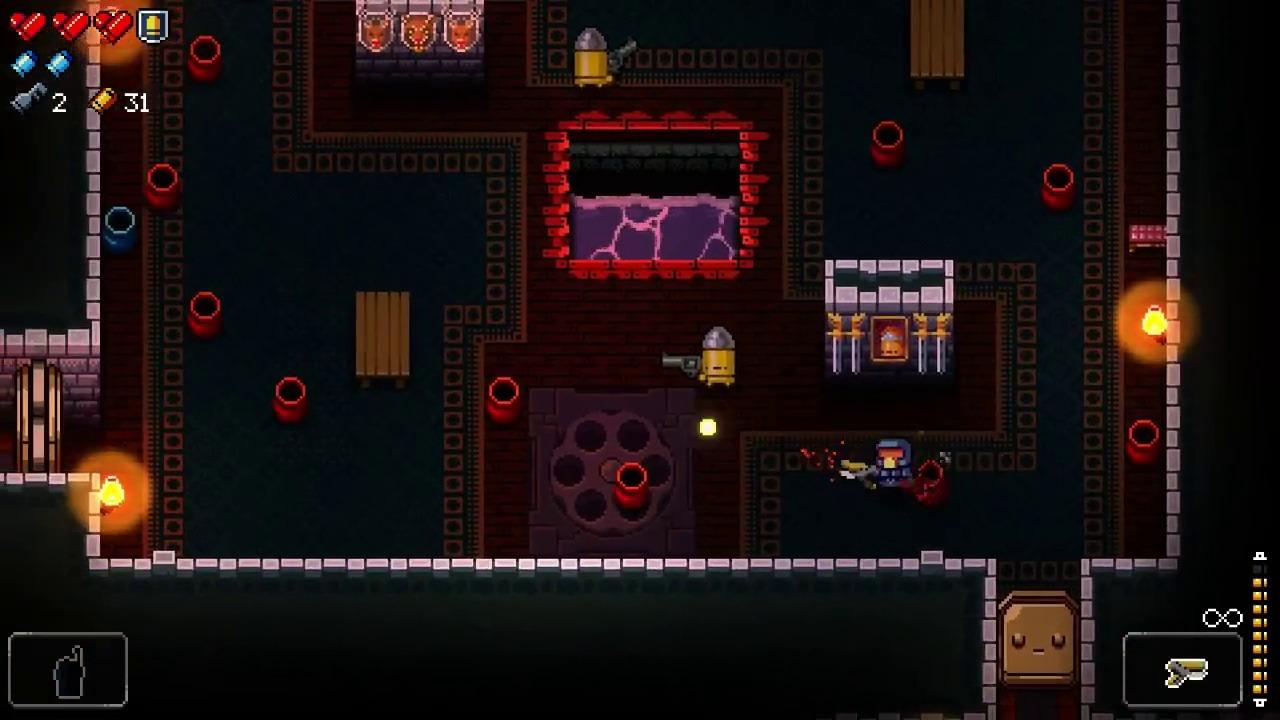bullet_kin: (573, 26, 610, 89), (703, 326, 737, 390)
locked_door: (997, 590, 1079, 690), (17, 358, 61, 474)
player: (873, 436, 913, 487)
table: (356, 290, 410, 391), (910, 0, 964, 90)
teleporter: (529, 387, 696, 555)
water_pit: (543, 110, 770, 281)
